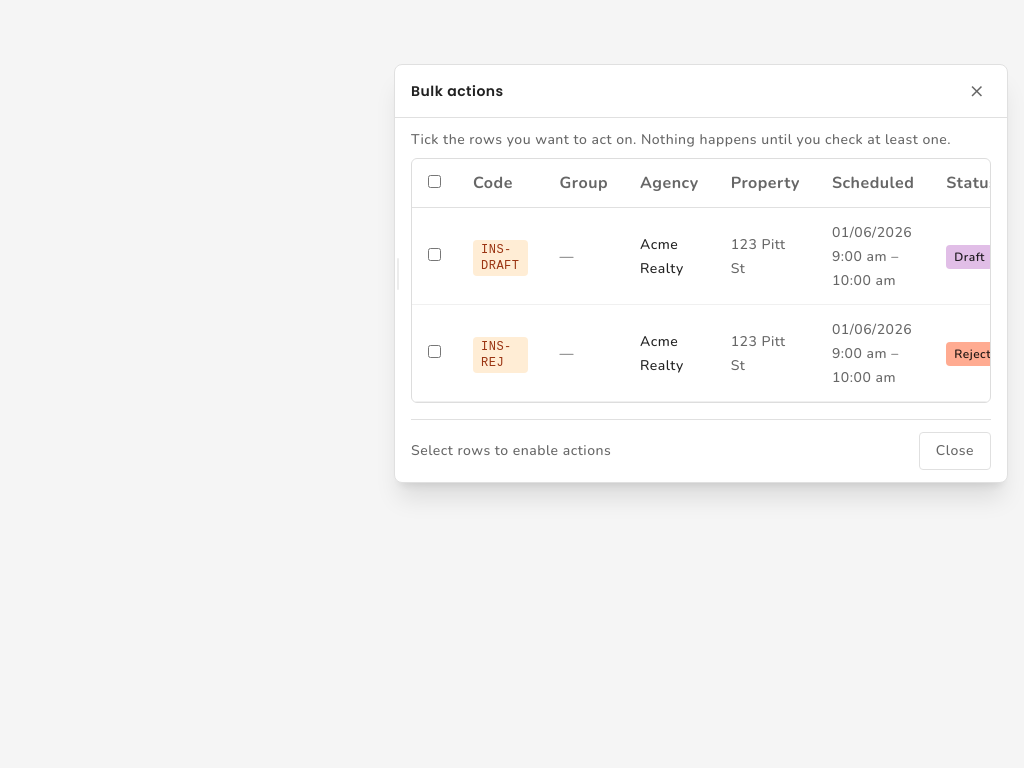
Test: MapBulkActionModal › bulk cancel — notify the tenants already told › requires a reason when a non-first selected row needs one for the target (WEB-9)
The image size is (1024, 768).
Click the checkbox with test id "bulk-modal-row-INS-DRAFT".
click(434, 254)  # box [428,248,441,261]
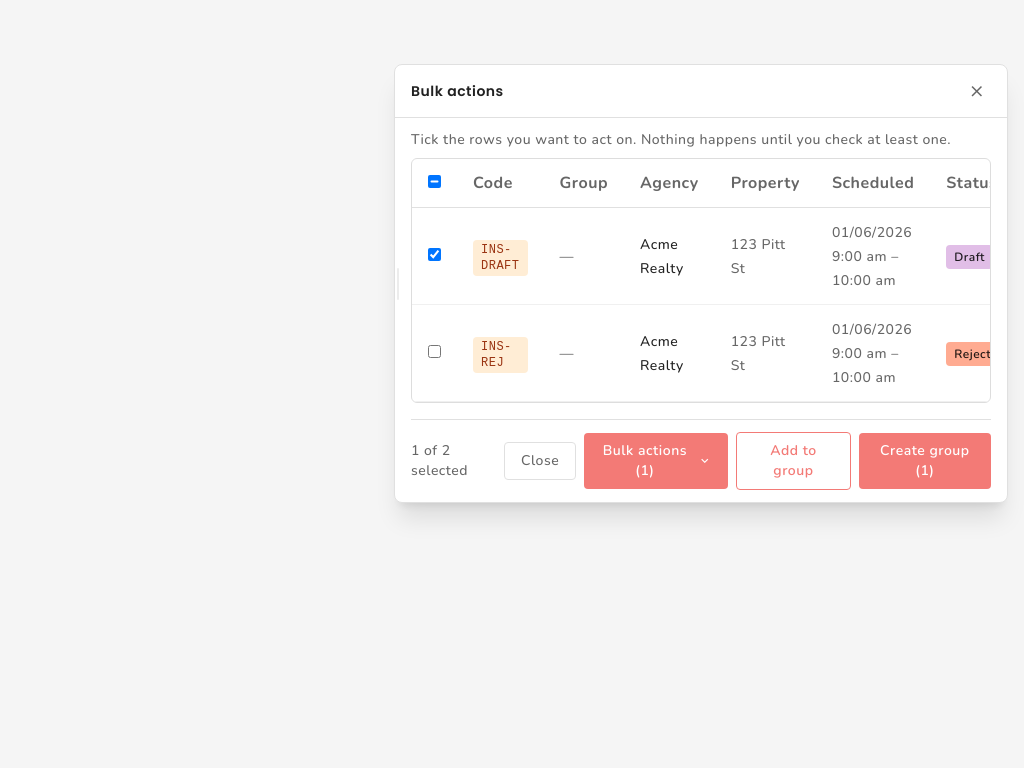
Click the checkbox with test id "bulk-modal-row-INS-REJ".
click(434, 352)  # box [428,345,441,358]
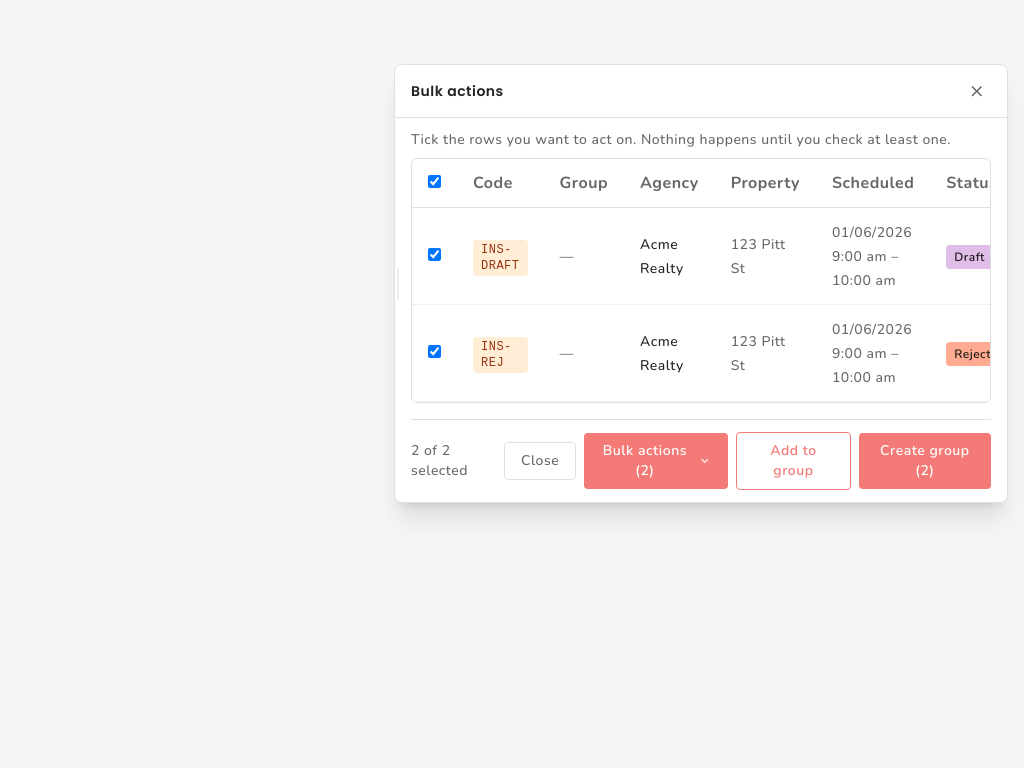
Click the button with test id "bulk-actions-toggle".
click(656, 461)  # box [584,433,728,489]
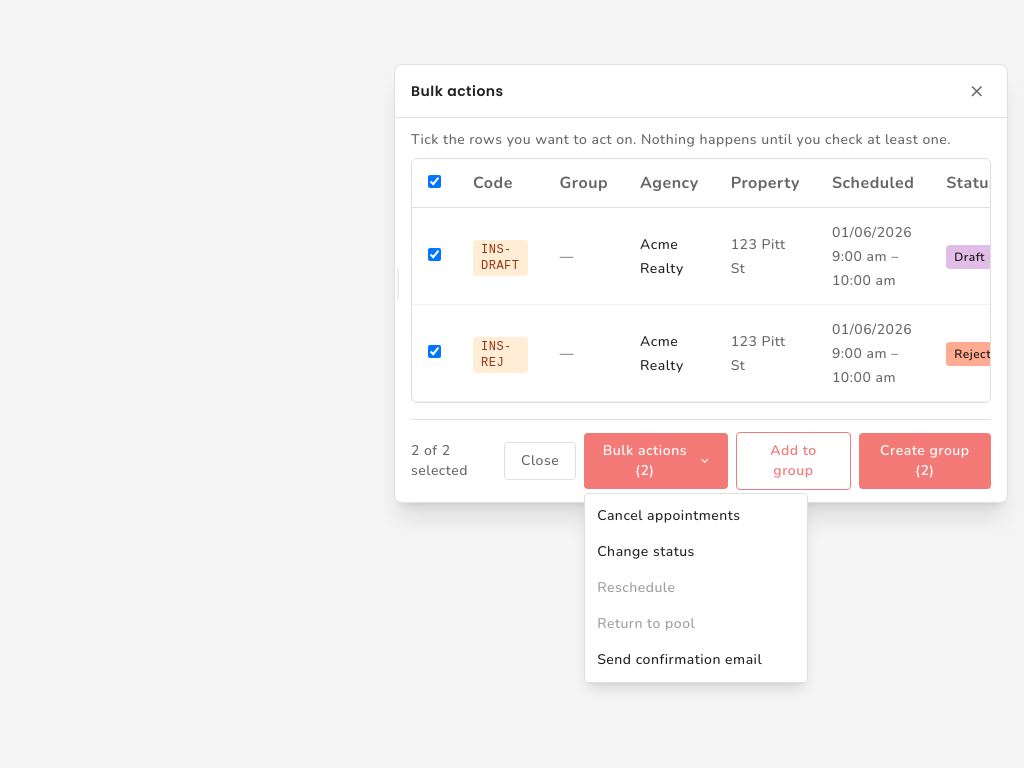
Click the menu item with test id "bulk-action-change_status".
click(696, 552)  # box [585,534,807,570]
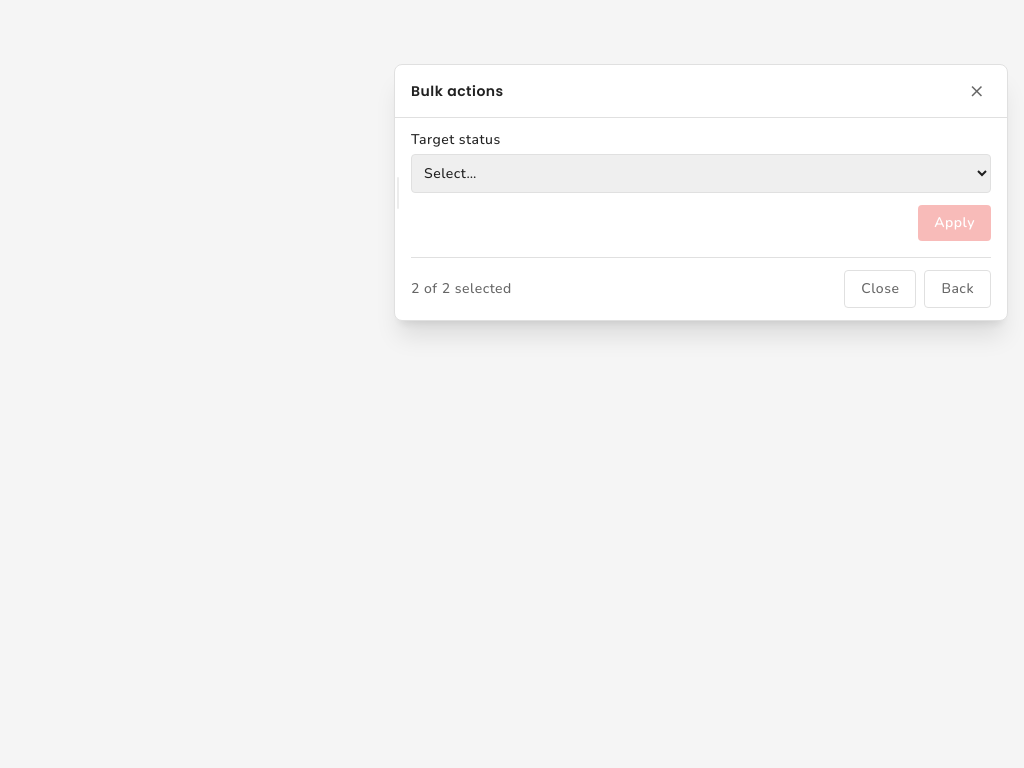
Select "Awaiting Inspector" in the dropdown with test id "bulk-change-status-target" at (701, 174), box [411,154,991,193]
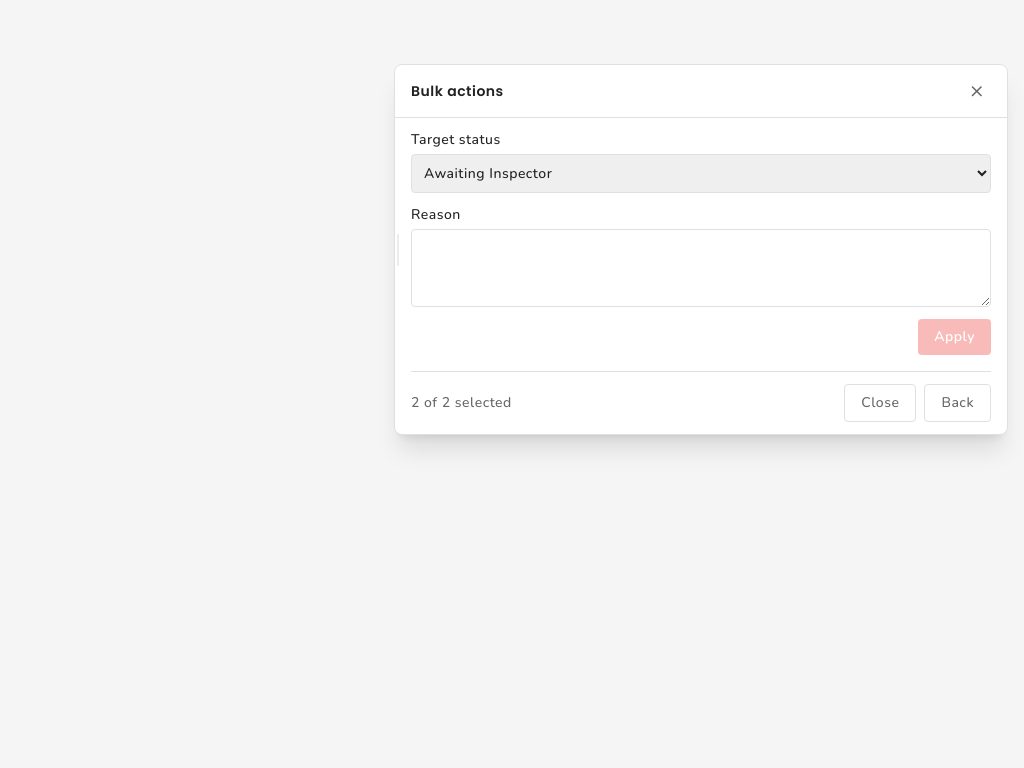
Now the text box with test id "bulk-change-status-reason" is shown, box [411,229,991,307]
